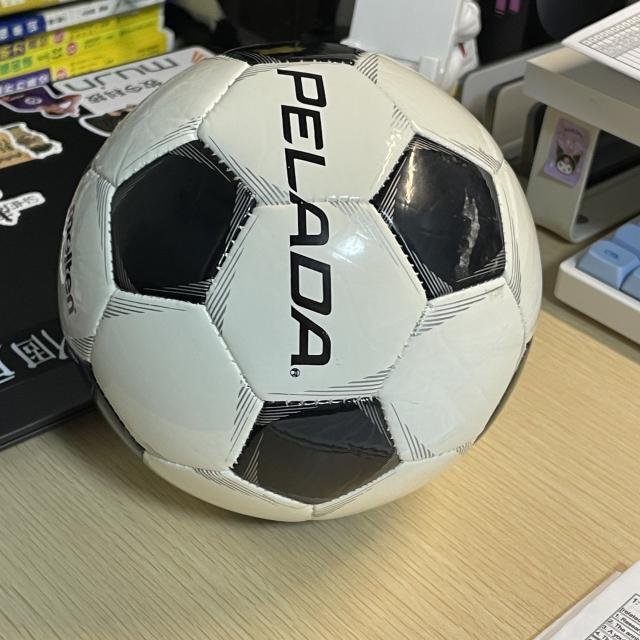ball: (56, 39, 544, 521)
